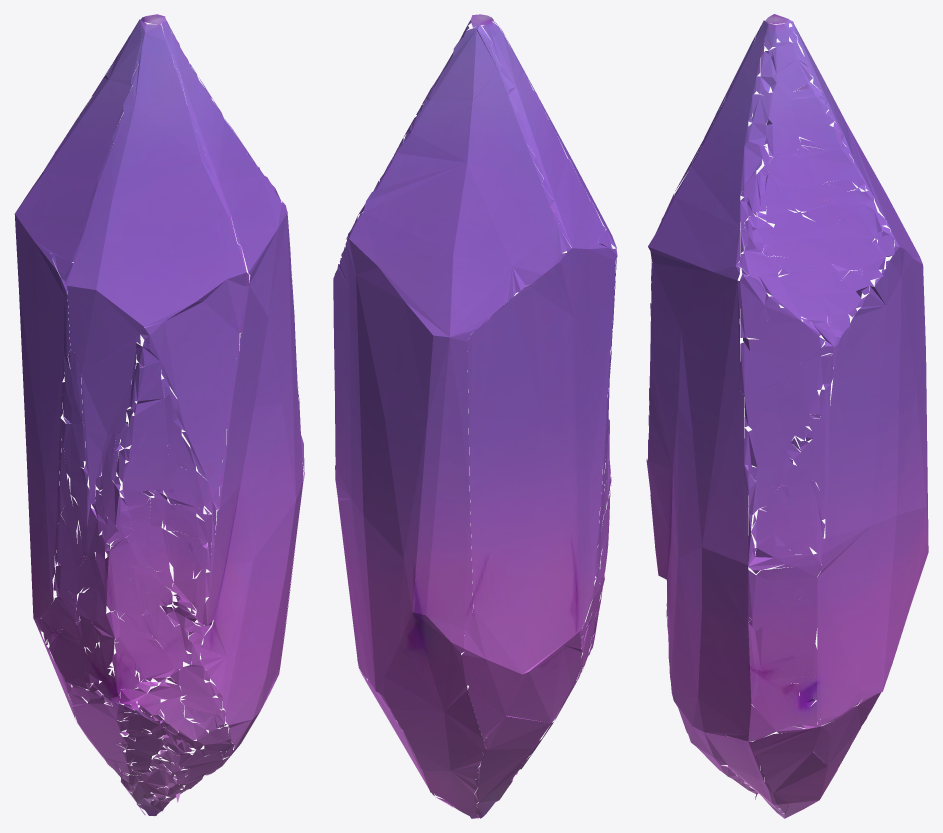
The model's file is savepoint.glb.
3 renders of one model, left to right at view 1: azimuth 30°, elevation 25°; view 2: azimuth 150°, elevation 25°; view 3: azimuth 270°, elevation 25°, orthographic.
Visible parts, largest first — view 1: textured_mesh.obj; view 2: textured_mesh.obj; view 3: textured_mesh.obj.
Part boxes in pixels (bbox=[...]): textured_mesh.obj: bbox=[14, 14, 304, 816]; textured_mesh.obj: bbox=[333, 14, 617, 818]; textured_mesh.obj: bbox=[646, 14, 928, 818].
Size of the model in its own units: 0.5612 by 1.71 by 0.5479.
Materials: 1 (1 with a texture image).
